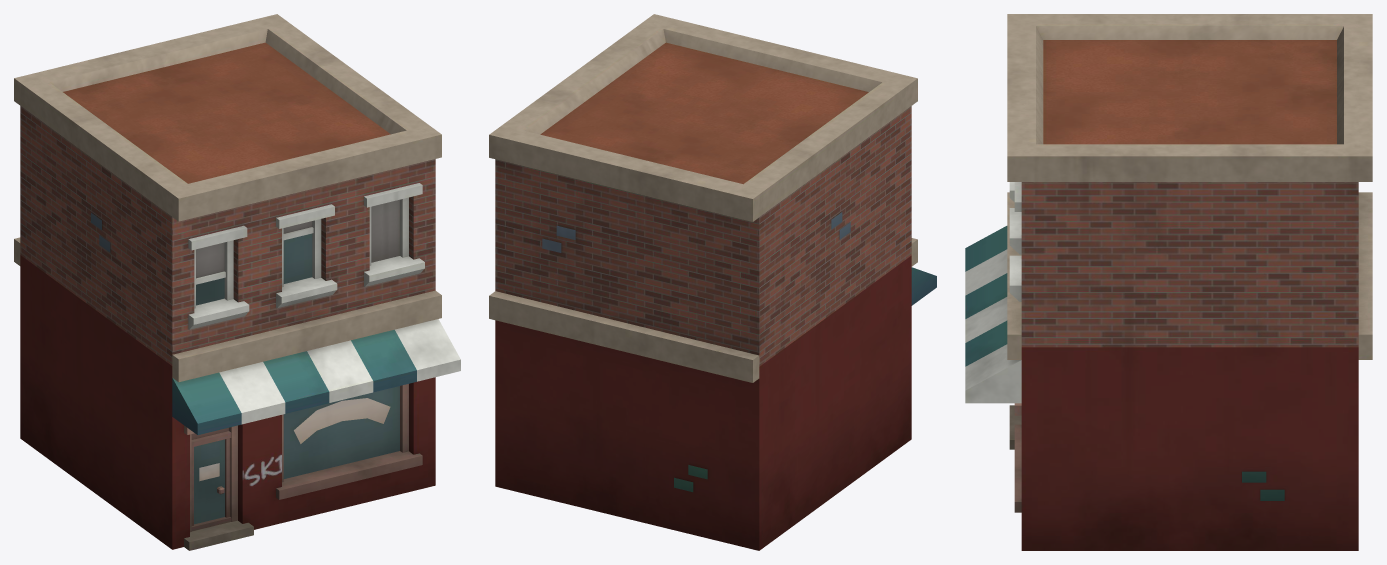
File: building_A.glb
3 views of the same model, side by side, from view 1: azimuth 30°, elevation 25°; view 2: azimuth 150°, elevation 25°; view 3: azimuth 270°, elevation 25° (orthographic). The views are drawn at different scales.
Parts seen in each view (by area): view 1: building_A_withoutBase; view 2: building_A_withoutBase; view 3: building_A_withoutBase.
Boxes of the visible parts, x1,y1,x2,y2 form: building_A_withoutBase: [14, 14, 460, 550]; building_A_withoutBase: [489, 14, 936, 550]; building_A_withoutBase: [965, 14, 1372, 550].
Size of the model in its own units: 1.21 by 1.55 by 1.45.
Materials: 2 (2 with a texture image).
